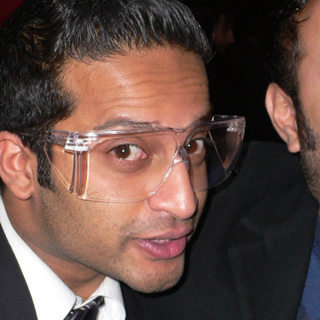eye: (102, 140, 148, 165), (183, 134, 208, 157)
